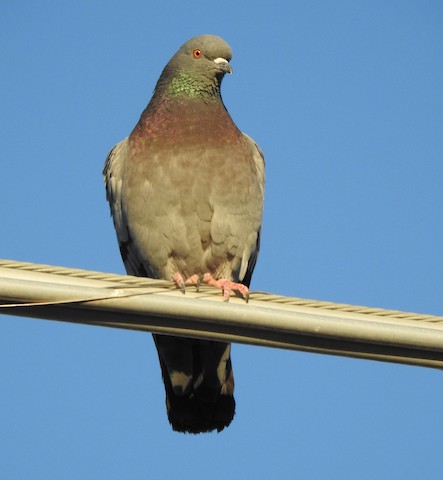pigeon: (100, 26, 271, 438)
